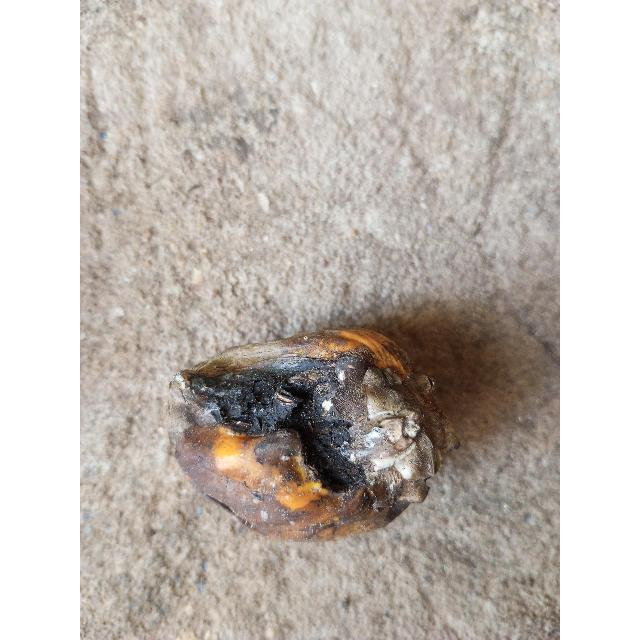damaged: (172, 326, 483, 545)
